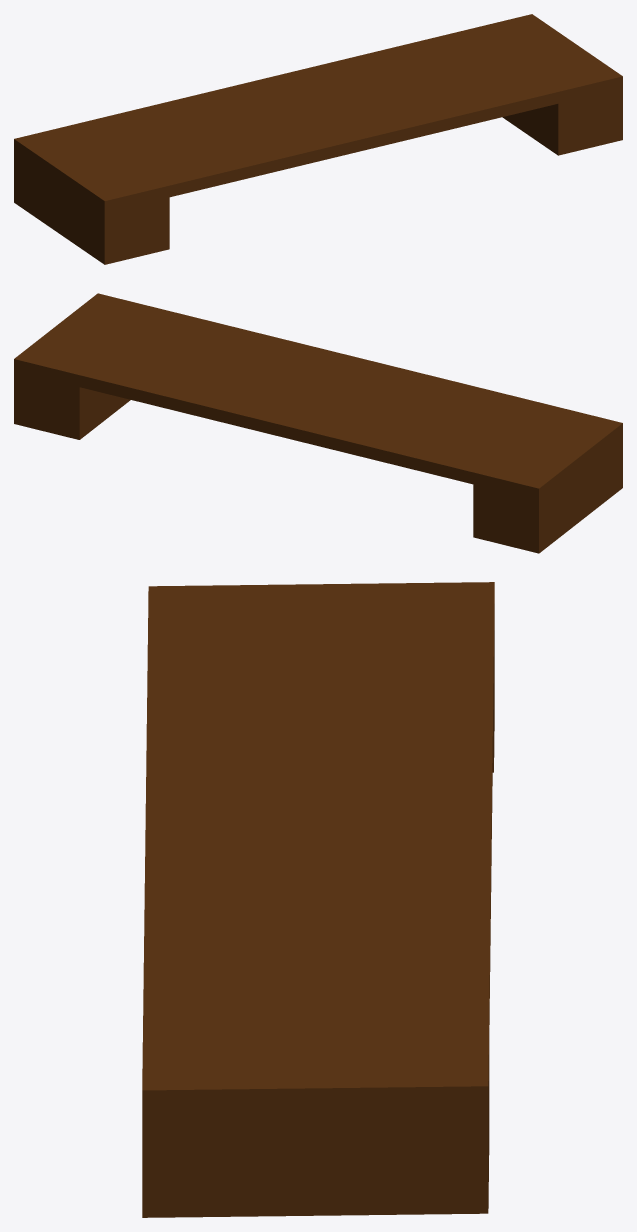
Rendered from Keg table.fbx.
3 views of the same model, one above another, from view 1: azimuth 30°, elevation 25°; view 2: azimuth 150°, elevation 25°; view 3: azimuth 270°, elevation 25° (orthographic). The views are drawn at different scales.
Visible parts, largest first — view 1: Keg_table; view 2: Keg_table; view 3: Keg_table.
Boxes of the visible parts, <box> form: Keg_table: <box>14,14,622,264</box>; Keg_table: <box>14,293,622,553</box>; Keg_table: <box>142,582,494,1217</box>.
Bounding box in the file's own units: 463 × 54.16 × 136.
